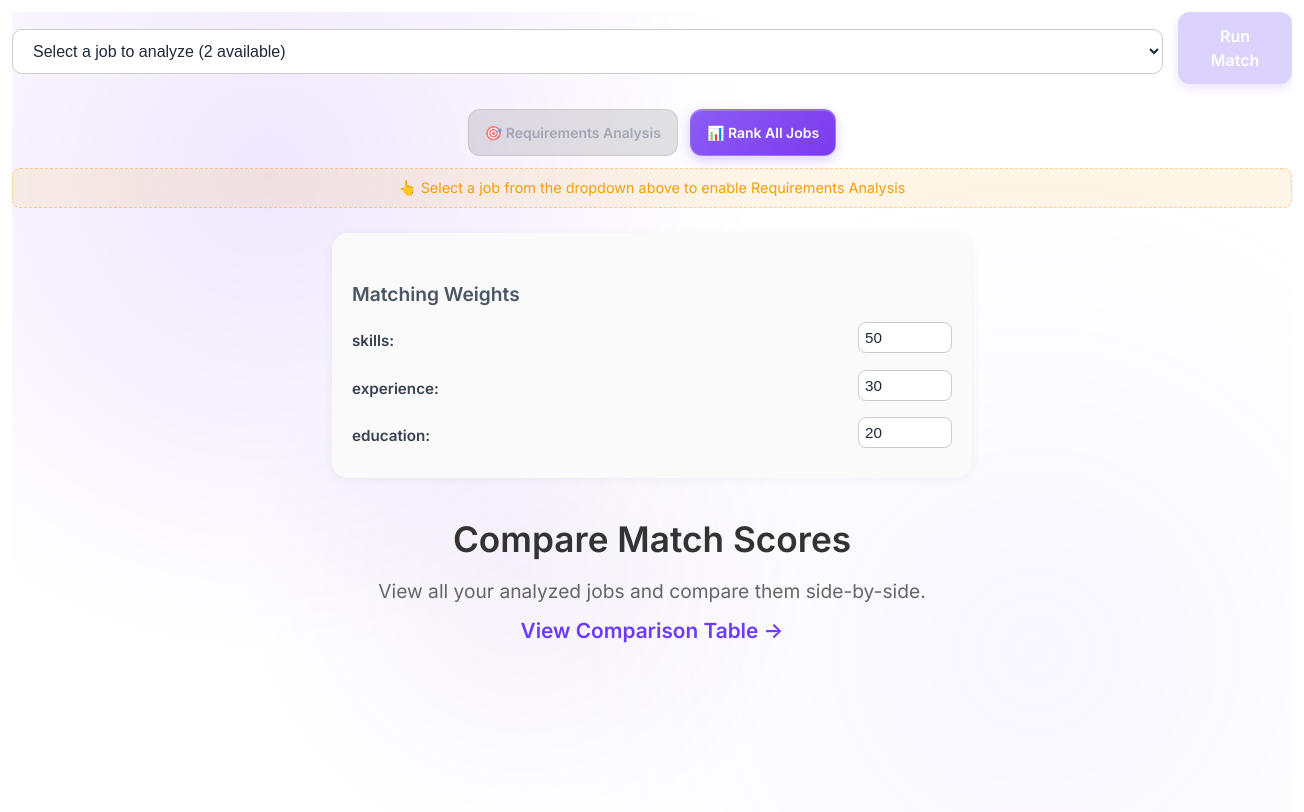
Test: MatchAnalysisTab › enables Run Match button when job is selected
Select "Software Engineer — Tech Corp" in the dropdown at (588, 51), box 12,29 -> 1163,74
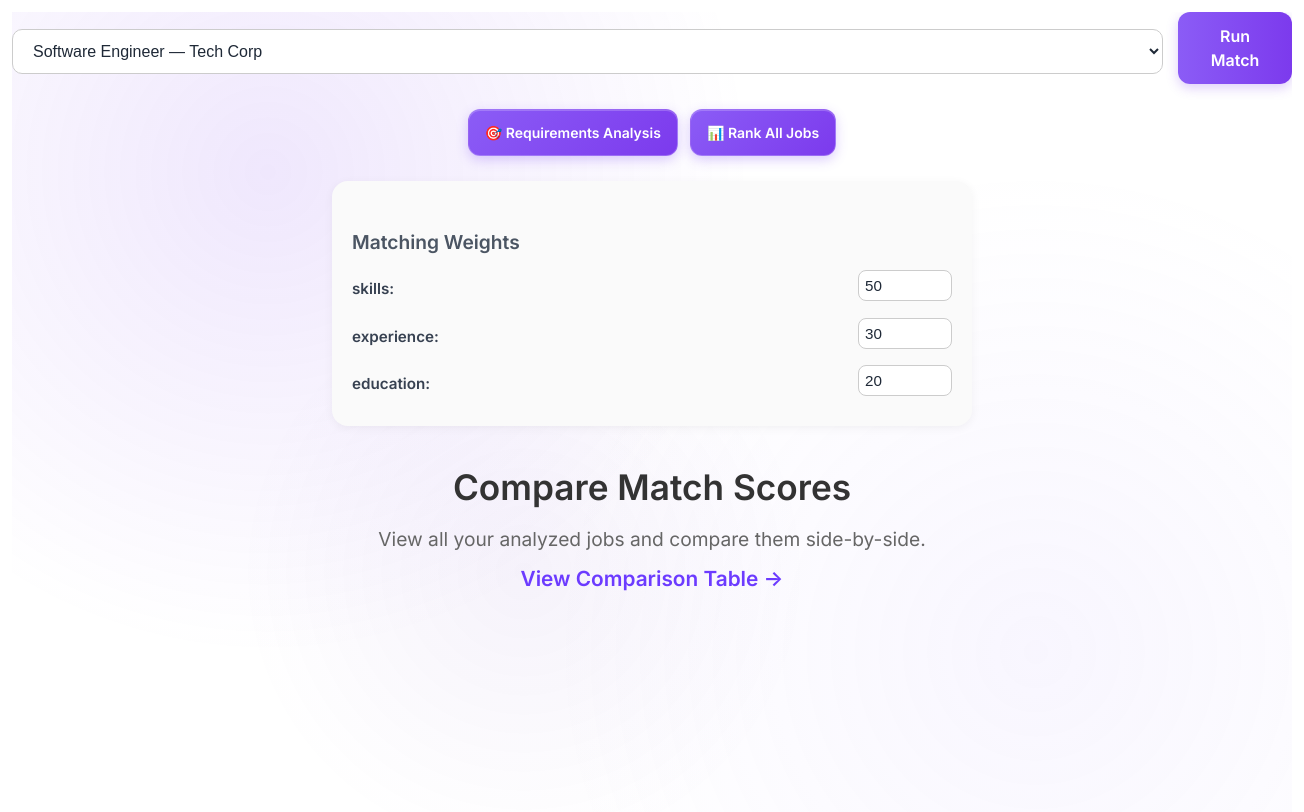
expect the button "Run Match" is enabled: met, box 1178,12 -> 1292,84
